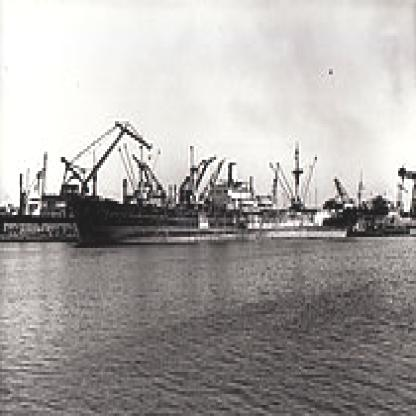Tanker: (61, 146, 327, 251)
